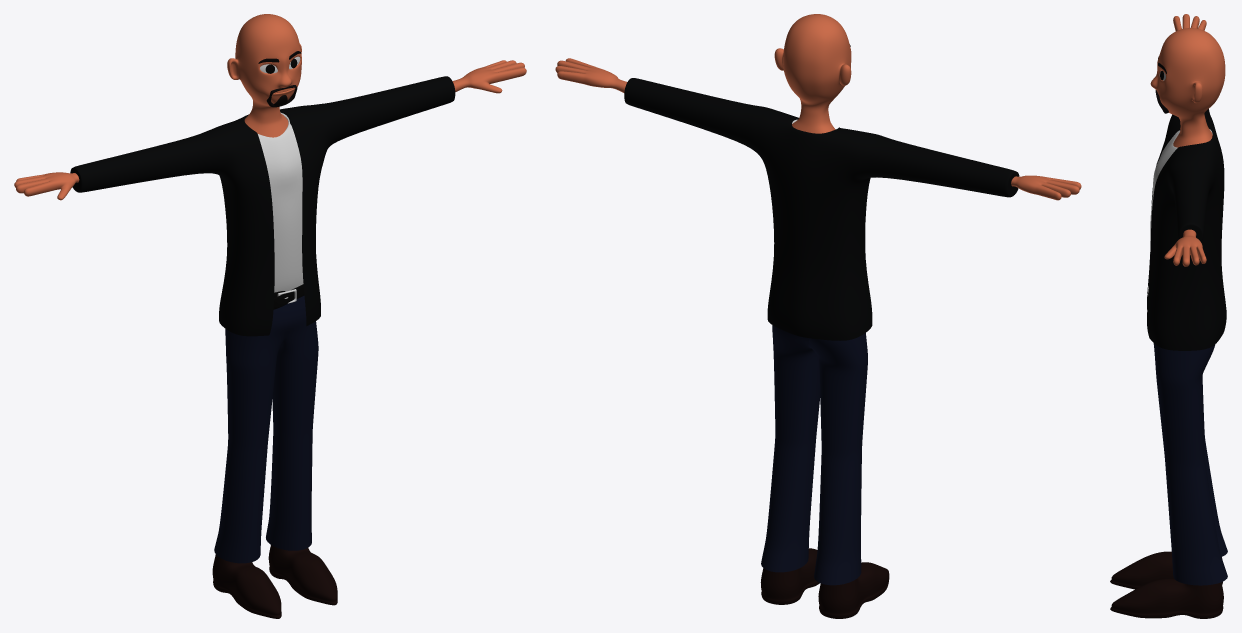
The model's file is character_modelling_1_fbx.FBX.
3 renders of one model, left to right at view 1: azimuth 30°, elevation 25°; view 2: azimuth 150°, elevation 25°; view 3: azimuth 270°, elevation 25°, orthographic. The views are drawn at different scales.
Visible parts, largest first — view 1: polySurface15, polySurface45, pCube13, polySurface31, polySurface37, polySurface38, polySurface14, polySurface16; view 2: polySurface15, polySurface45, pCube13, polySurface37, polySurface38, polySurface14, polySurface16; view 3: polySurface15, polySurface45, pCube13, polySurface38, polySurface37, polySurface14, polySurface31, polySurface16.
Boxes of the visible parts, left/top/right/bottom form: polySurface15: left=70, top=76, right=455, bottom=336; polySurface45: left=214, top=296, right=318, bottom=563; pCube13: left=227, top=14, right=301, bottom=137; polySurface31: left=258, top=112, right=303, bottom=292; polySurface37: left=212, top=554, right=281, bottom=618; polySurface38: left=268, top=545, right=337, bottom=605; polySurface14: left=452, top=60, right=526, bottom=93; polySurface16: left=14, top=172, right=79, bottom=200; polySurface15: left=624, top=78, right=1019, bottom=340; polySurface45: left=761, top=325, right=867, bottom=585; pCube13: left=774, top=14, right=851, bottom=133; polySurface37: left=818, top=562, right=889, bottom=618; polySurface38: left=760, top=548, right=819, bottom=604; polySurface14: left=555, top=58, right=627, bottom=92; polySurface16: left=1011, top=175, right=1081, bottom=200; polySurface15: left=1147, top=109, right=1226, bottom=350; polySurface45: left=1153, top=343, right=1227, bottom=585; pCube13: left=1150, top=28, right=1225, bottom=147; polySurface38: left=1110, top=579, right=1223, bottom=618; polySurface37: left=1110, top=551, right=1222, bottom=589; polySurface14: left=1164, top=229, right=1206, bottom=266; polySurface31: left=1150, top=129, right=1212, bottom=253; polySurface16: left=1173, top=14, right=1206, bottom=31.
Bounding box in the file's own units: 36.57 × 38.98 × 7.34.
